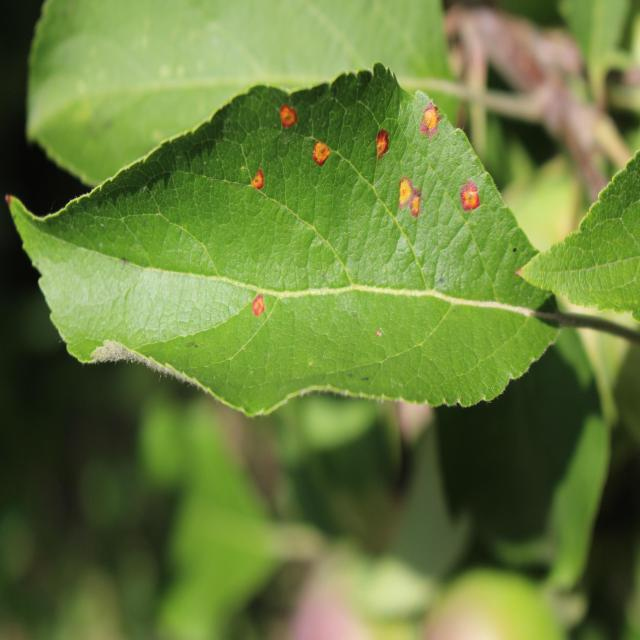Rust: (394, 172, 429, 235), (418, 92, 444, 151), (307, 133, 334, 184), (268, 95, 304, 132), (369, 116, 395, 167), (458, 174, 482, 222), (245, 166, 274, 197), (250, 282, 268, 329)
